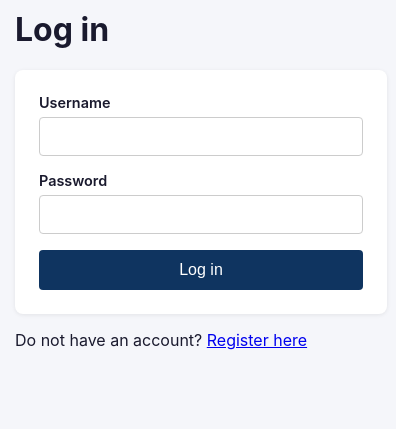
Test: Login page › shows an error message when login fails
This screenshot has width=396, height=429.
Type "baduser" into the field labelled "Username" at (201, 137), box [39,117,363,156]
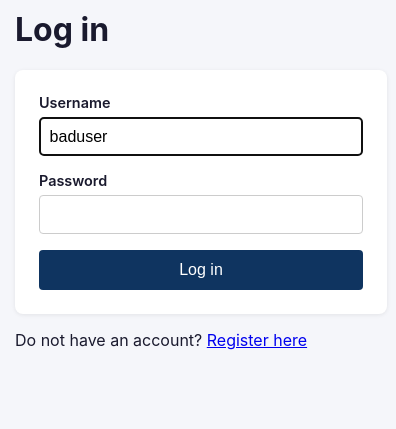
Type "wrongpass" into the password field labelled "Password" at (201, 214), box [39,195,363,234]
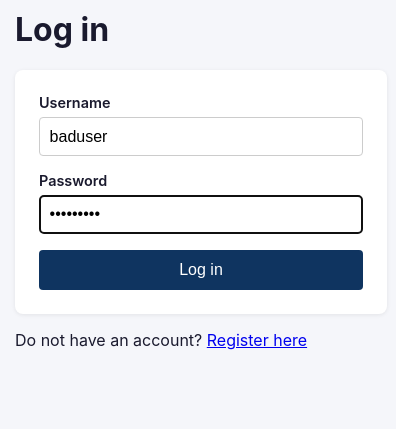
Click the button "Log in" at (201, 270), box [39,250,363,290]
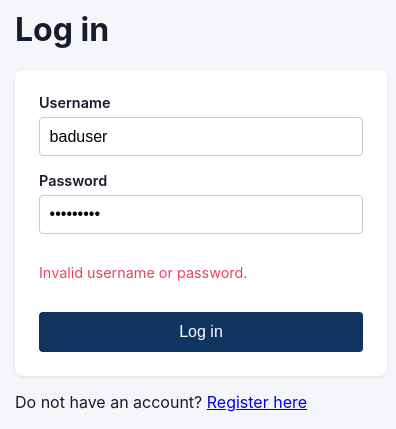
Now the text "Invalid username or password." is shown, box [39,264,248,281]
